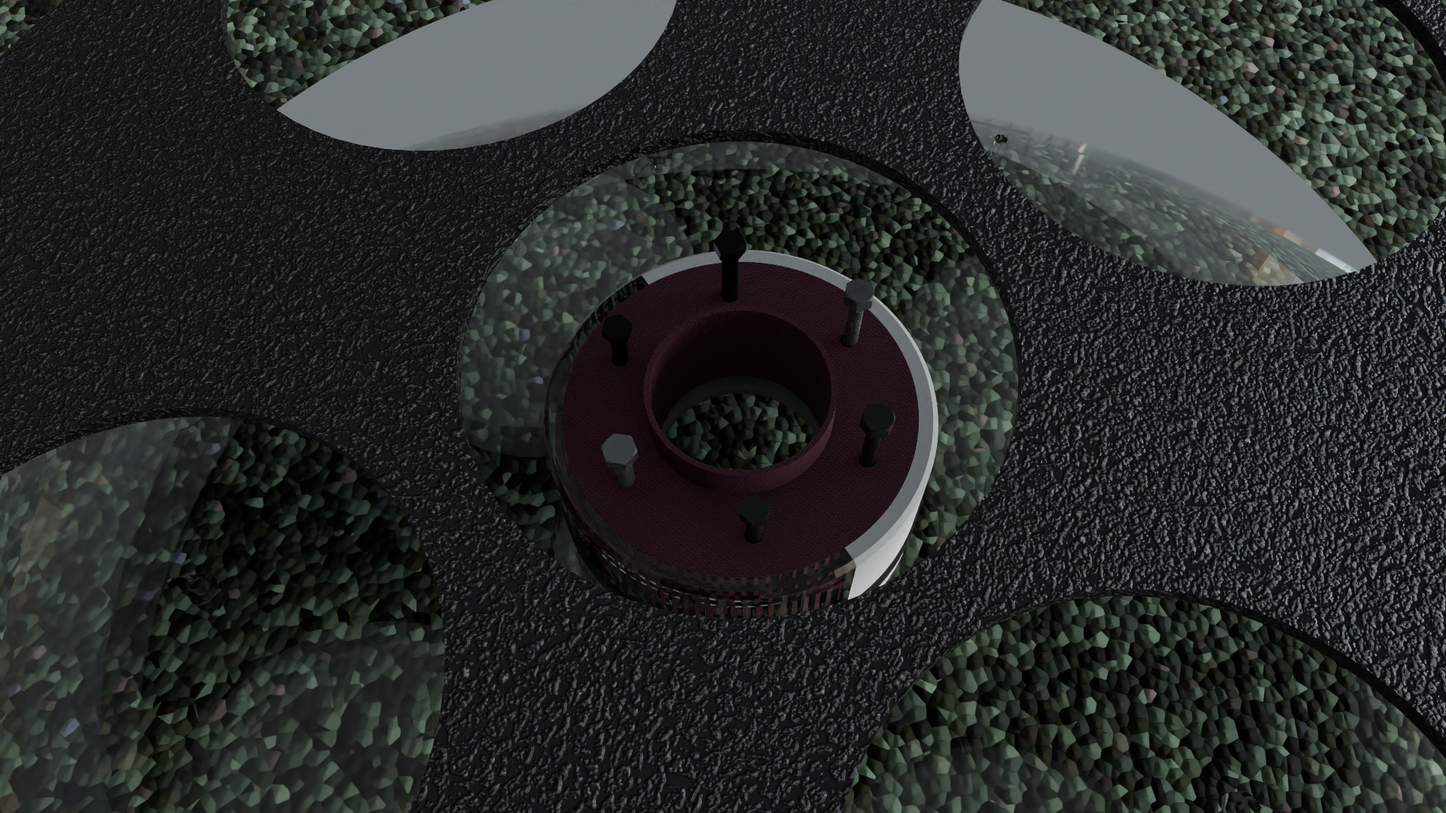bolt: (601, 434, 637, 464), (861, 403, 895, 433), (740, 495, 770, 524), (844, 279, 874, 306), (714, 230, 746, 255), (602, 315, 632, 340)
